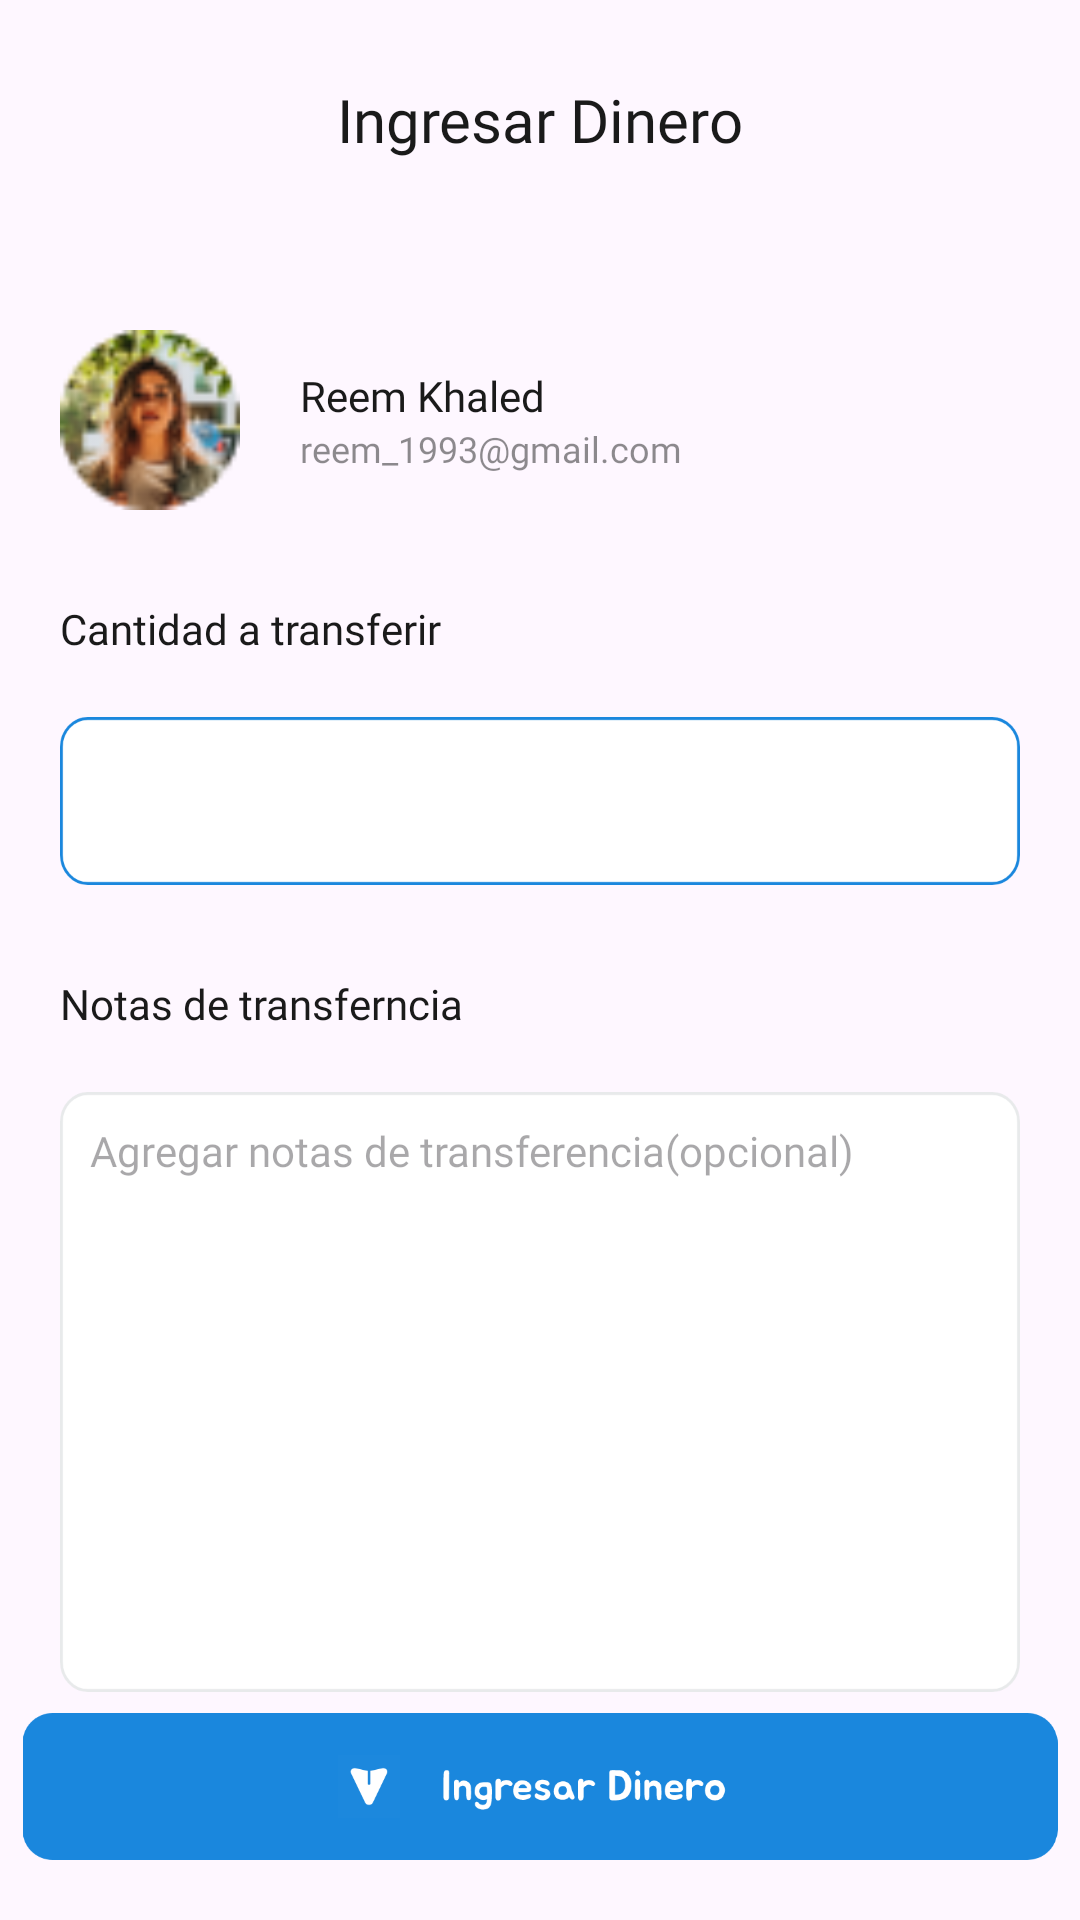

Point at icon controls on the screen. Image size 1080*1920, points as [x,y].
profile: [150,420]
